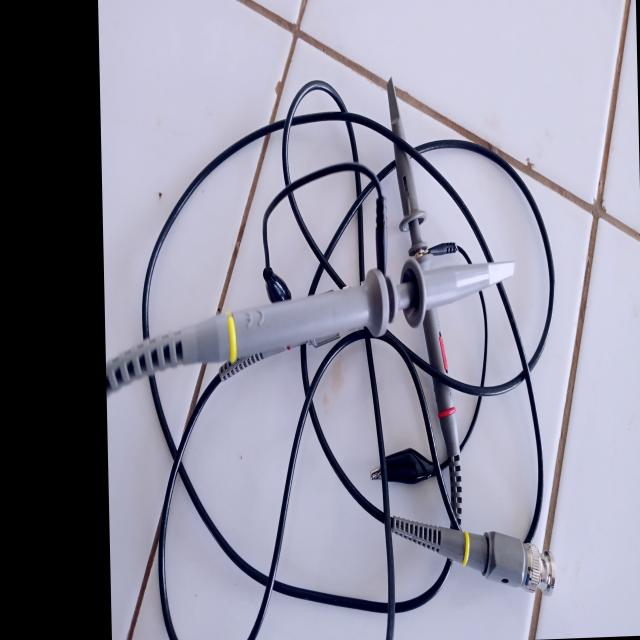CRO Probes: (170, 65, 572, 627)
